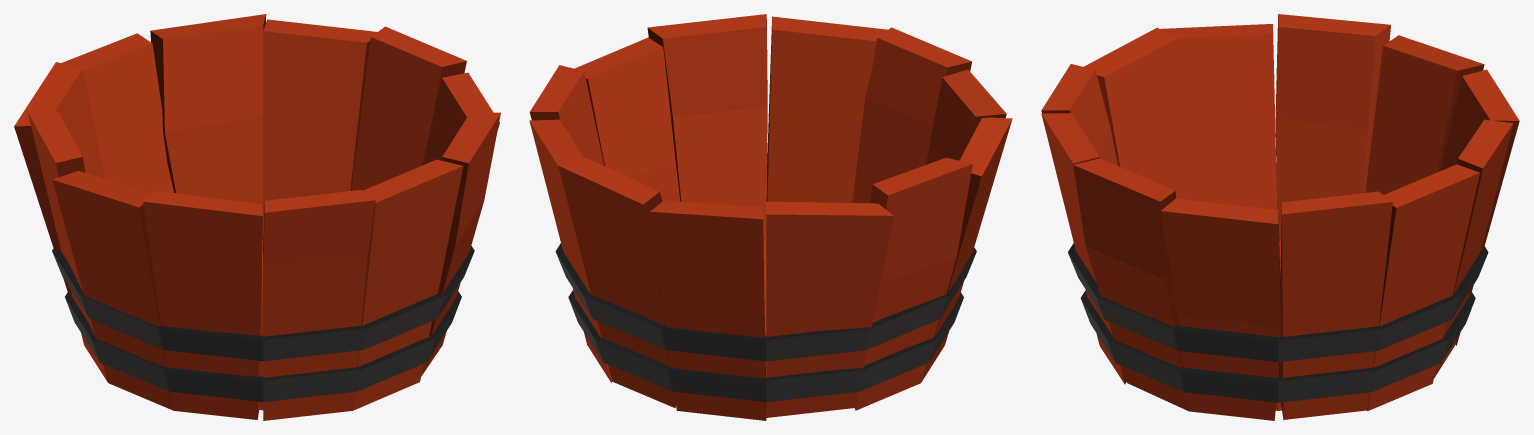
File: winter_castle_item13.glb
The picture shows the model from 3 angles, left to right: view 1: azimuth 30°, elevation 25°; view 2: azimuth 150°, elevation 25°; view 3: azimuth 270°, elevation 25°; orthographic projection.
Visible parts, largest first — view 1: Item13_Medieval_0; view 2: Item13_Medieval_0; view 3: Item13_Medieval_0.
Part boxes in pixels (<box>): Item13_Medieval_0: <box>14,14,500,420</box>; Item13_Medieval_0: <box>529,14,1012,420</box>; Item13_Medieval_0: <box>1041,14,1519,420</box>.
Size of the model in its own units: 0.3681 by 0.1977 by 0.3657.
Materials: 1 (1 with a texture image).
